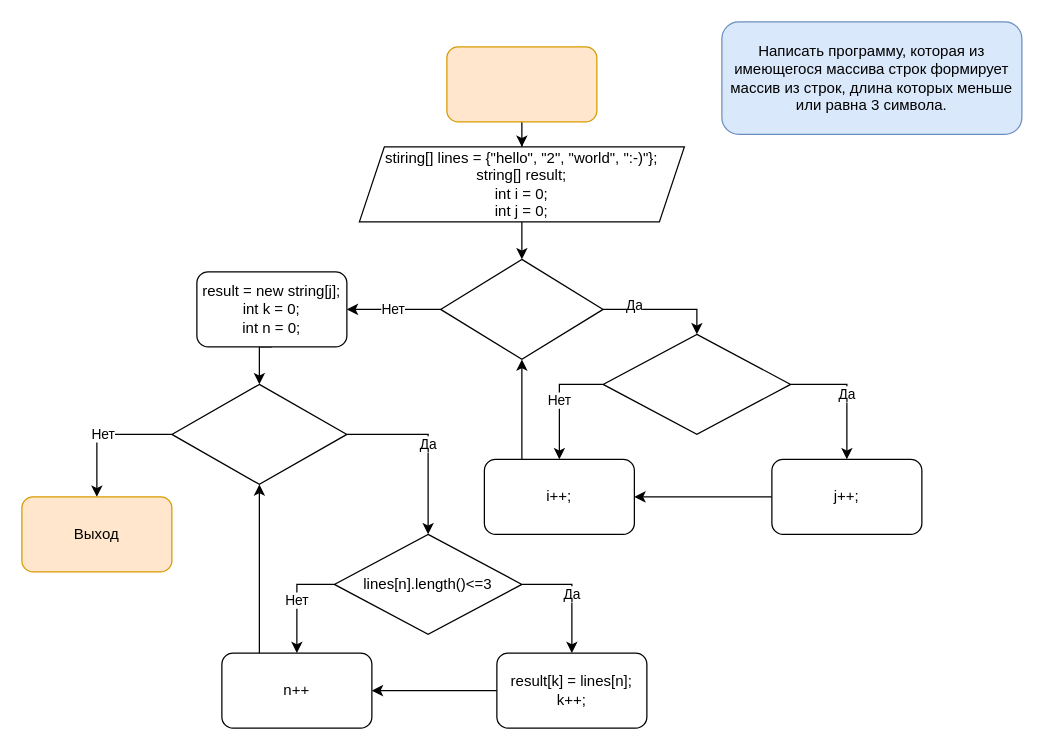
Image size: 1044x750. Some labels were removed from this diagram. The shapes that lost their labels are listed below. From the top down, each one's centre as x and y in pixels, then its label:
At [521,84]: "Старт".
At [521,308]: "i<lines.length()".
At [696,383]: "lines[i].length()<=3".
At [259,433]: "n<lines.length()".
